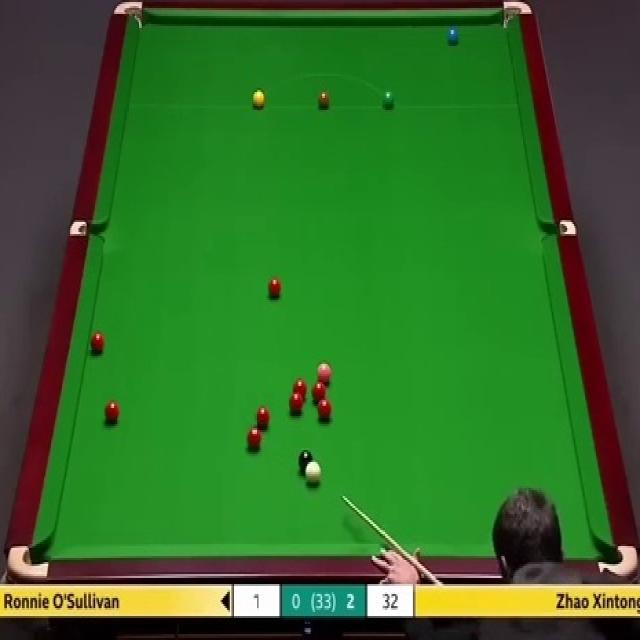black-ball: (298, 448, 315, 477)
blue-ball: (445, 22, 461, 47)
brown-ball: (317, 91, 331, 111)
green-ball: (382, 90, 396, 112)
pink-ball: (314, 361, 332, 385)
red-ball: (104, 399, 120, 427), (245, 428, 262, 452), (267, 276, 283, 300), (288, 393, 304, 416), (256, 405, 270, 431), (89, 331, 104, 355), (291, 379, 308, 400), (317, 398, 332, 420), (311, 382, 327, 402)
white-ball: (304, 459, 322, 487)
yellow-ball: (252, 90, 266, 110)
